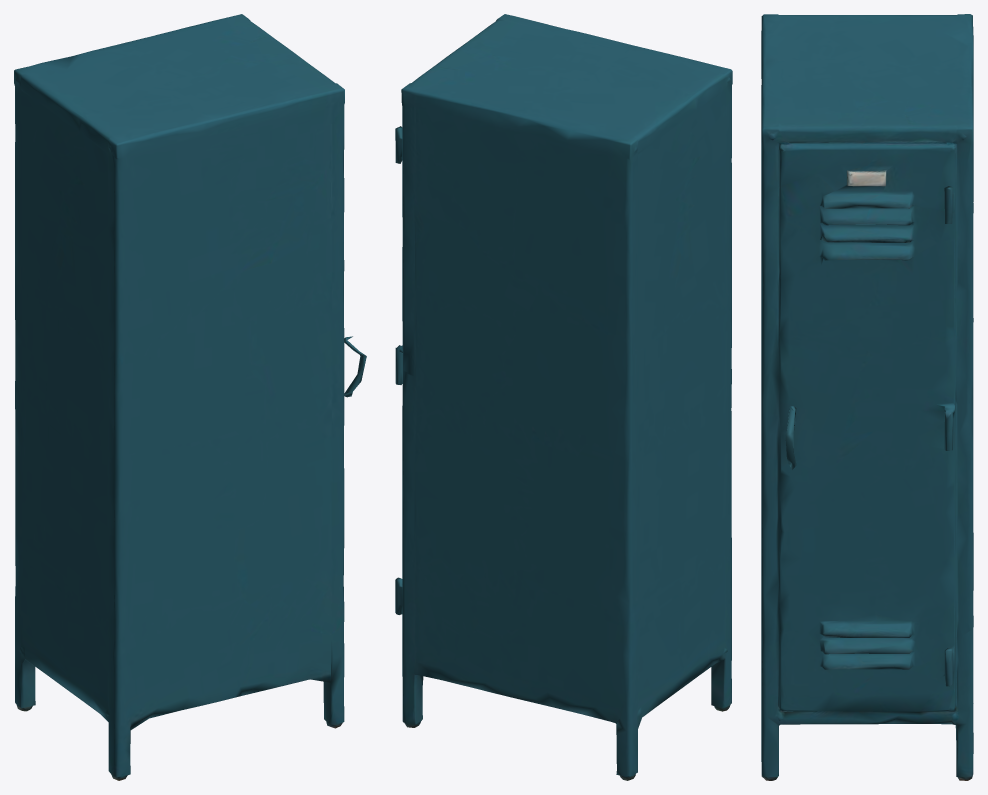
File: gen-locker.glb
3 renders of one model, left to right at view 1: azimuth 30°, elevation 25°; view 2: azimuth 150°, elevation 25°; view 3: azimuth 270°, elevation 25°, orthographic. The views are drawn at different scales.
Parts seen in each view (by area): view 1: tripo_node_6a36faa0-2f21-48e3-bb87-56d49a3748a5; view 2: tripo_node_6a36faa0-2f21-48e3-bb87-56d49a3748a5; view 3: tripo_node_6a36faa0-2f21-48e3-bb87-56d49a3748a5.
Boxes of the visible parts, x1,y1,x2,y2 form: tripo_node_6a36faa0-2f21-48e3-bb87-56d49a3748a5: [14, 14, 366, 780]; tripo_node_6a36faa0-2f21-48e3-bb87-56d49a3748a5: [395, 14, 732, 780]; tripo_node_6a36faa0-2f21-48e3-bb87-56d49a3748a5: [761, 14, 973, 780].
Bounding box in the file's own units: 0.4314 × 1 × 0.2939.
1 material, 1 textured.
